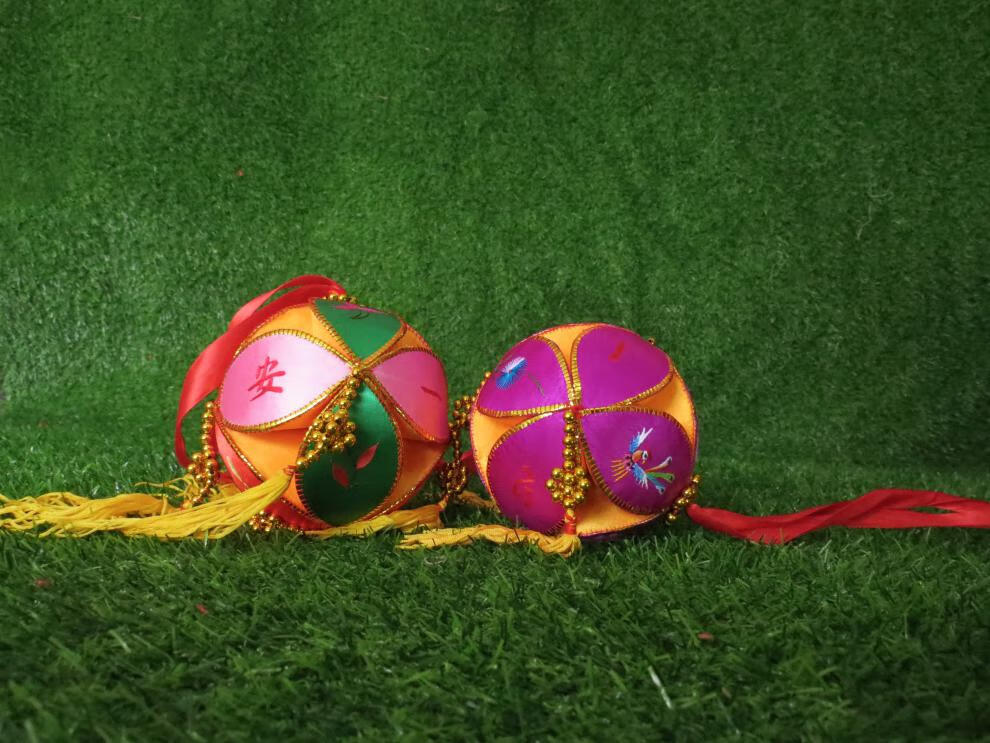xiuqiu: (215, 305, 452, 525)
